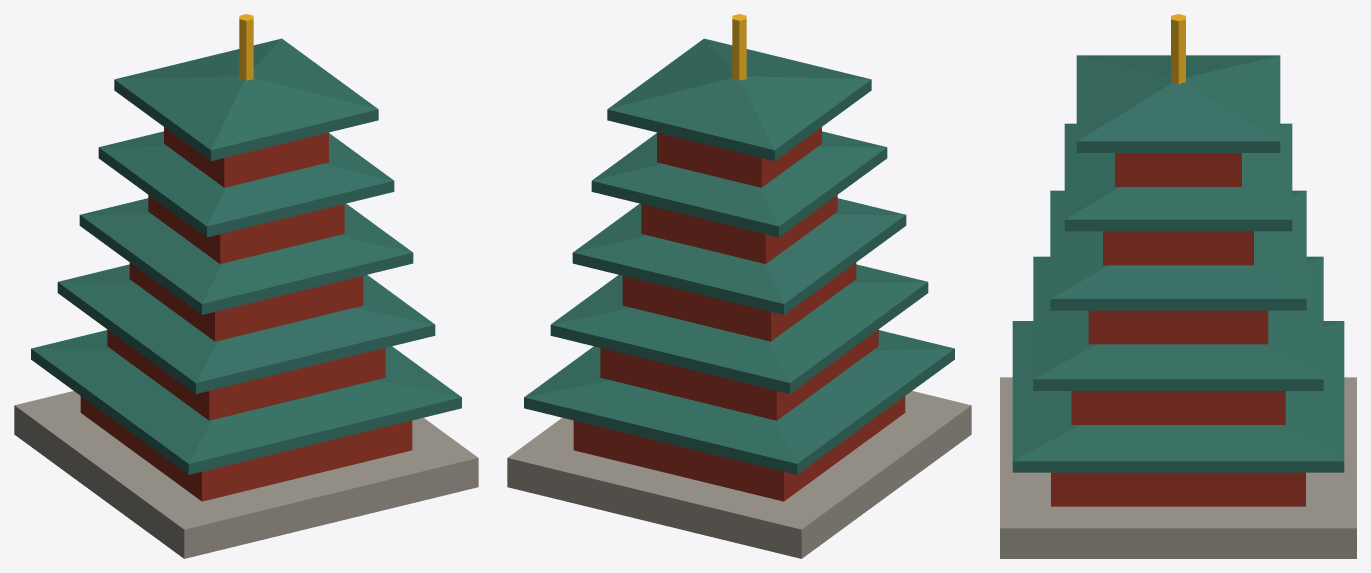
Rendered from pagoda.glb.
The picture shows the model from 3 angles, left to right: view 1: azimuth 30°, elevation 25°; view 2: azimuth 150°, elevation 25°; view 3: azimuth 270°, elevation 25°; orthographic projection. The views are drawn at different scales.
Parts seen in each view (by area): view 1: pagoda; view 2: pagoda; view 3: pagoda.
Part boxes in pixels (<box>): pagoda: <box>14,14,478,558</box>; pagoda: <box>507,14,971,558</box>; pagoda: <box>1000,14,1356,558</box>.
Bounding box in the file's own units: 0.84 × 1.21 × 0.84.
